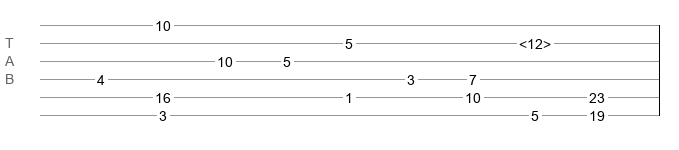1: (345, 90, 353, 100)
10: (155, 18, 171, 28), (217, 54, 233, 64), (465, 90, 481, 100)
16: (155, 90, 171, 100)
19: (589, 108, 605, 118)
23: (589, 90, 605, 100)
3: (159, 108, 167, 118), (407, 72, 415, 82)
4: (97, 72, 105, 82)
5: (283, 54, 291, 64), (345, 36, 353, 46), (531, 108, 539, 118)
7: (469, 72, 477, 82)
harmonic: (519, 36, 551, 46)
